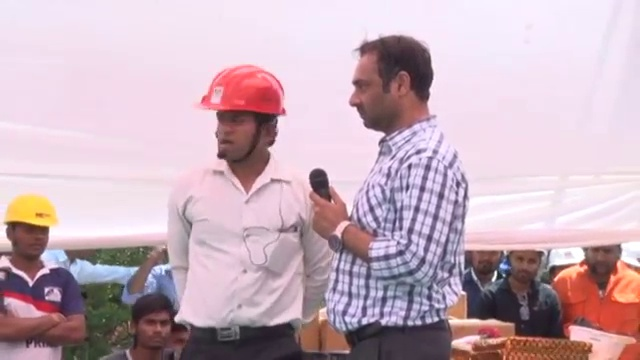helmet: (196, 64, 294, 116), (568, 323, 636, 359), (2, 190, 58, 231), (547, 245, 585, 274)
helmet_off: (348, 35, 434, 131), (127, 292, 177, 360), (506, 249, 544, 287), (471, 243, 503, 282), (587, 244, 621, 274)
helmet_on: (196, 62, 294, 181), (2, 199, 57, 275)
person: (309, 33, 465, 360), (165, 59, 329, 360), (0, 190, 90, 360), (553, 245, 640, 359), (488, 247, 562, 331), (462, 242, 509, 321)
